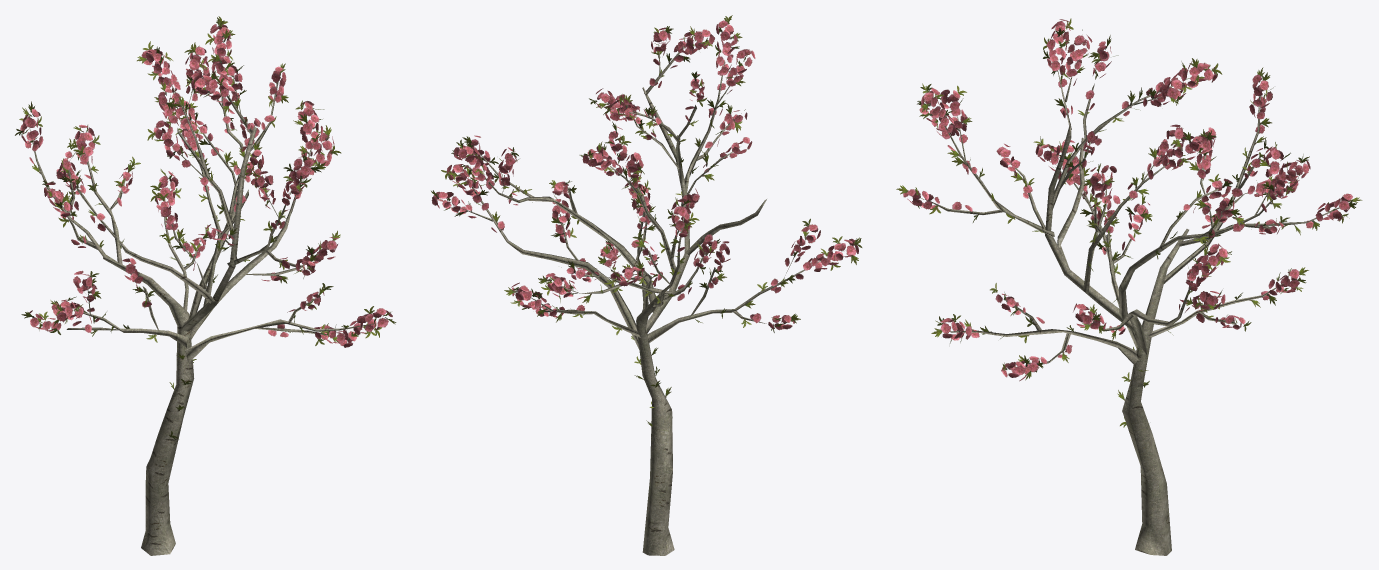
The model's file is Tree1.fbx.
3 views of the same model, side by side, from view 1: azimuth 30°, elevation 25°; view 2: azimuth 150°, elevation 25°; view 3: azimuth 270°, elevation 25° (orthographic). The views are drawn at different scales.
Parts seen in each view (by area): view 1: LV_Campagna_Tree01_BT05_PM_SMK; view 2: LV_Campagna_Tree01_BT05_PM_SMK; view 3: LV_Campagna_Tree01_BT05_PM_SMK.
Part boxes in pixels (x1,y1,x2,y2): LV_Campagna_Tree01_BT05_PM_SMK: [15, 16, 396, 555]; LV_Campagna_Tree01_BT05_PM_SMK: [431, 15, 862, 555]; LV_Campagna_Tree01_BT05_PM_SMK: [896, 18, 1362, 555].
Size of the model in its own units: 1.93 by 2.58 by 2.05.
2 materials, 2 textured.
